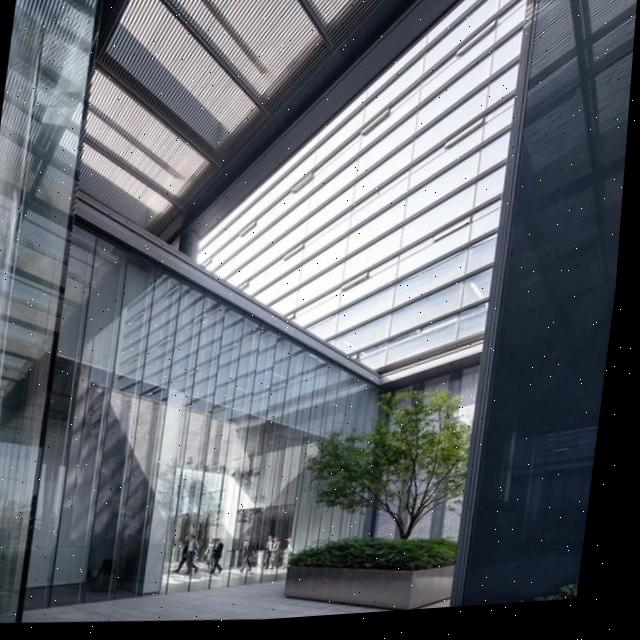building: (20, 0, 539, 630)
